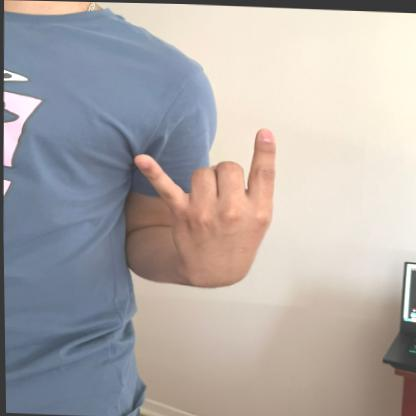U: (128, 118, 286, 283)
